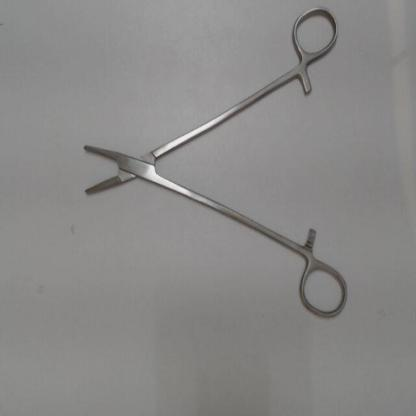8 Mayo Needle Holder: (71, 2, 353, 326)
